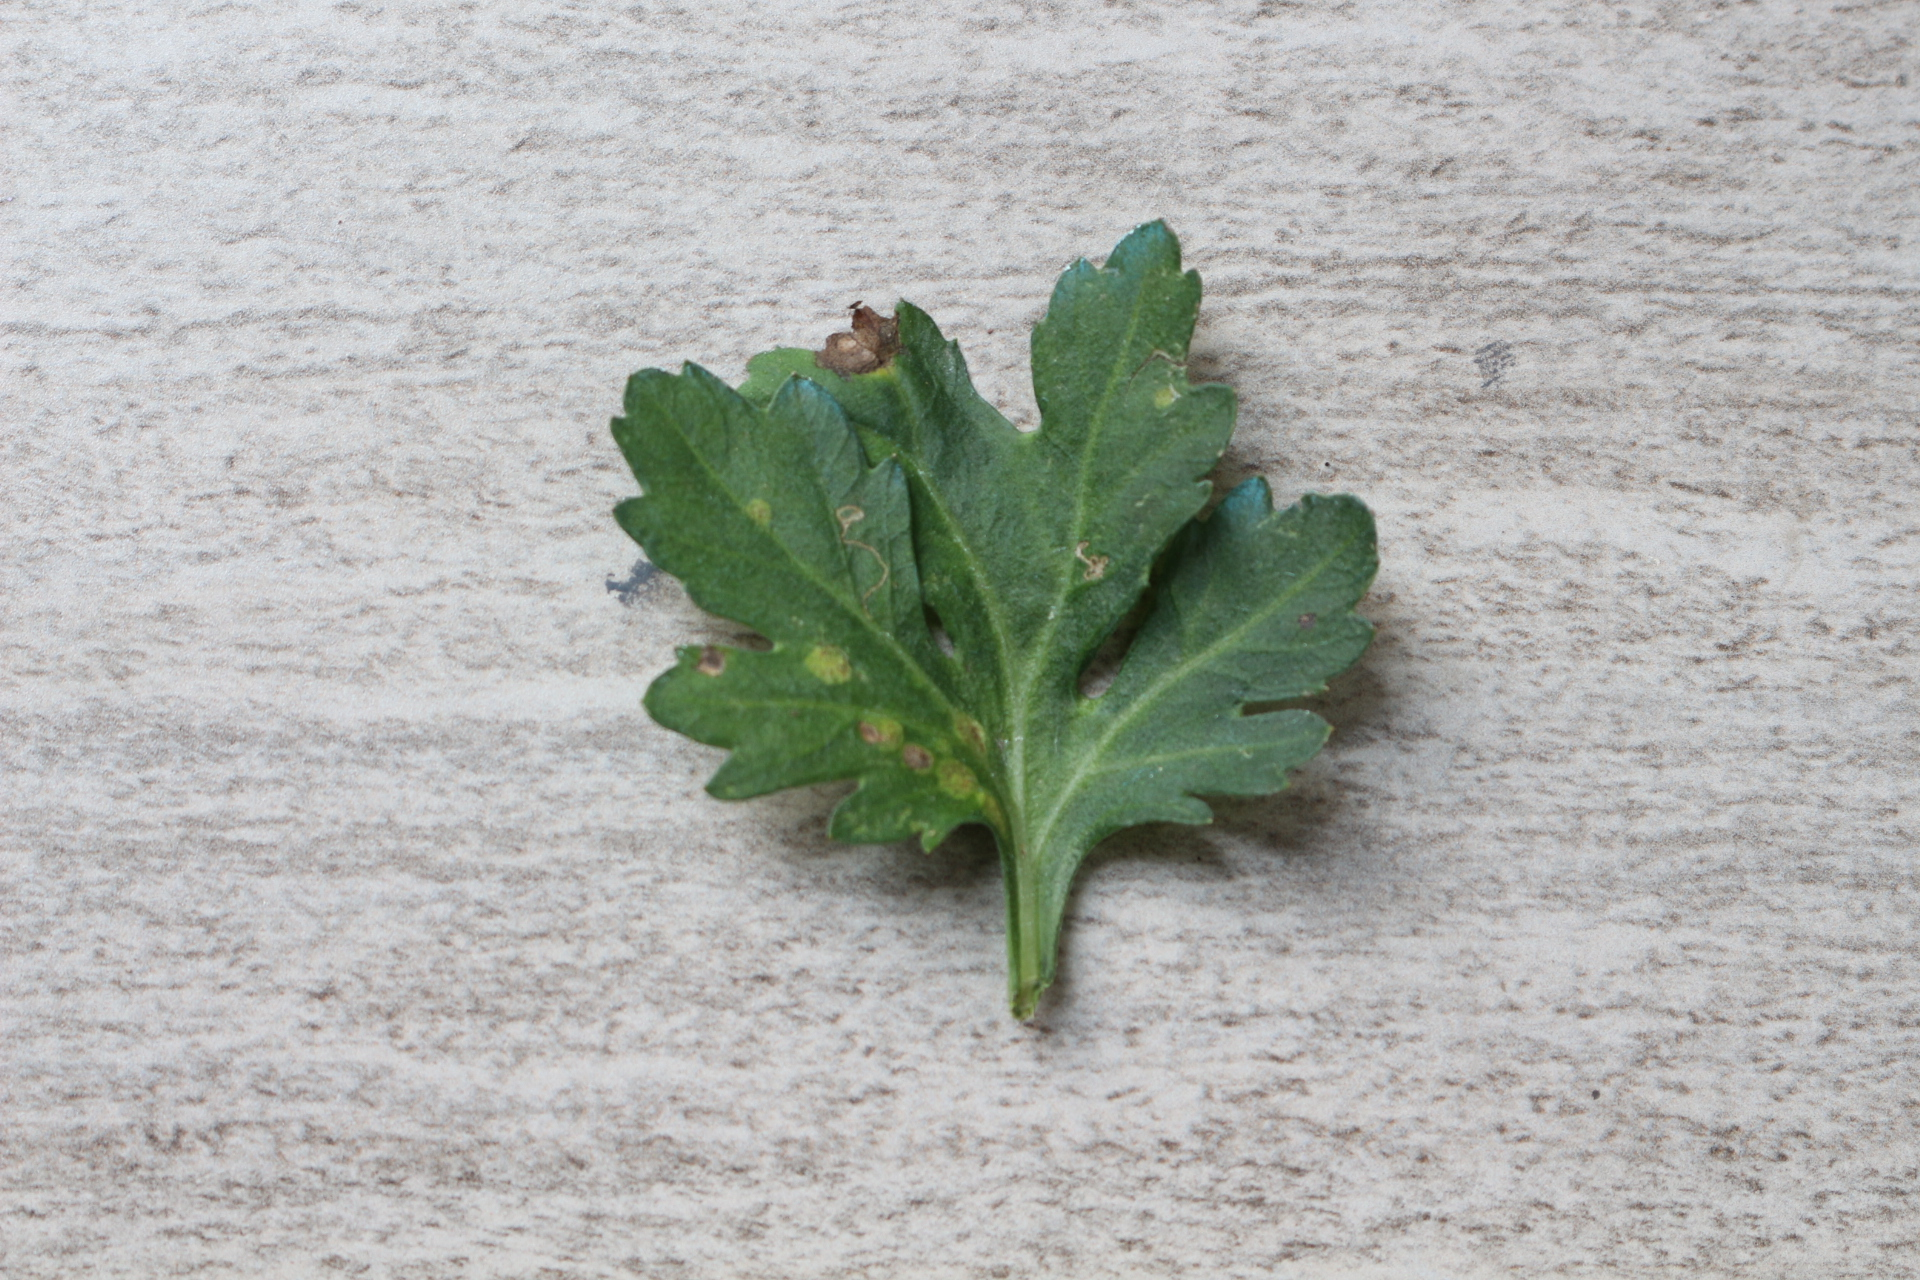namsung: (929, 759, 987, 807), (799, 644, 854, 687), (854, 713, 909, 750), (1146, 377, 1189, 421), (743, 499, 786, 534)
